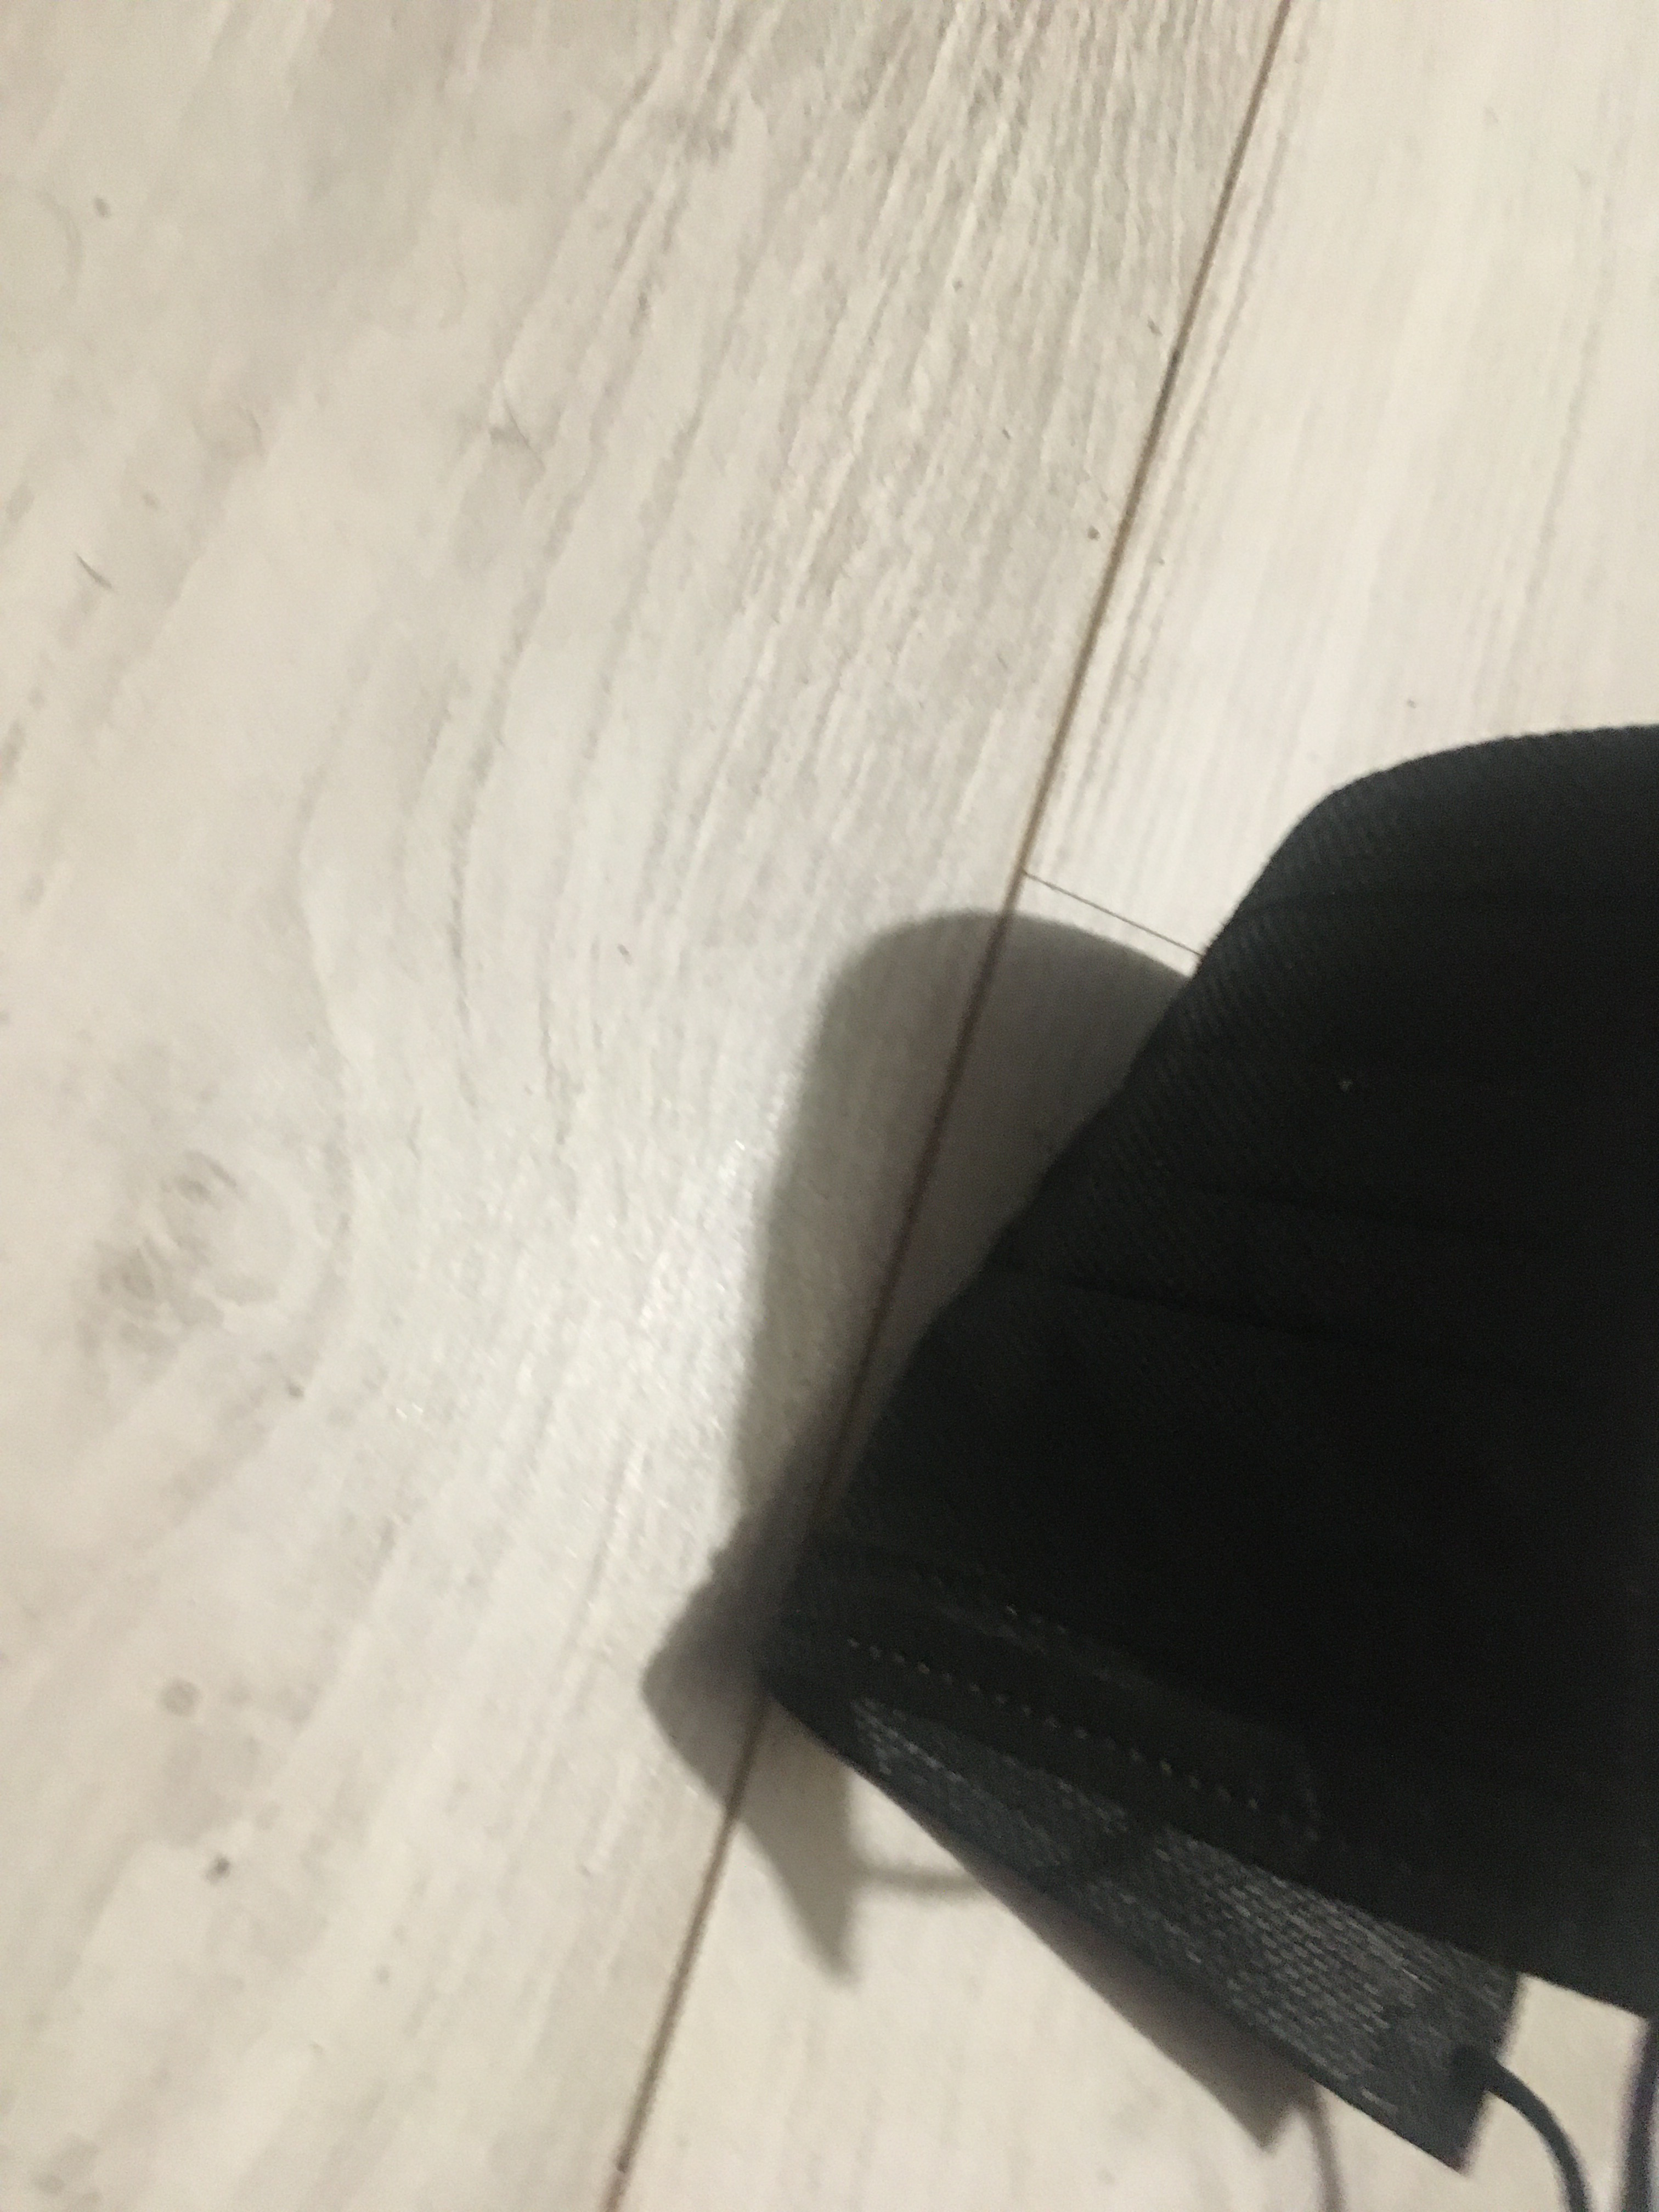trash: (760, 723, 1659, 2212)
